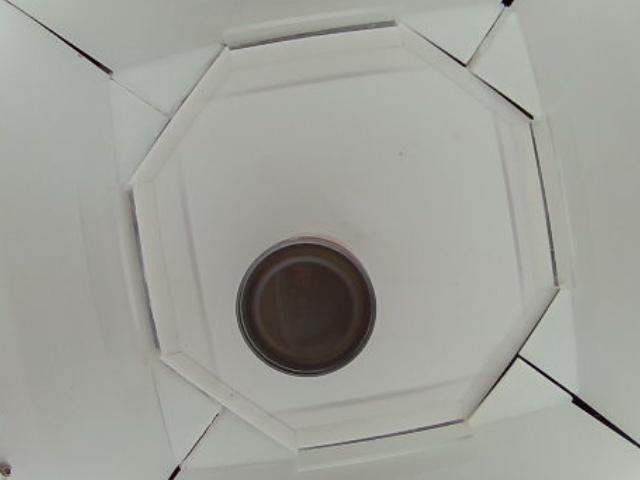Bottle: (235, 235, 377, 377)
